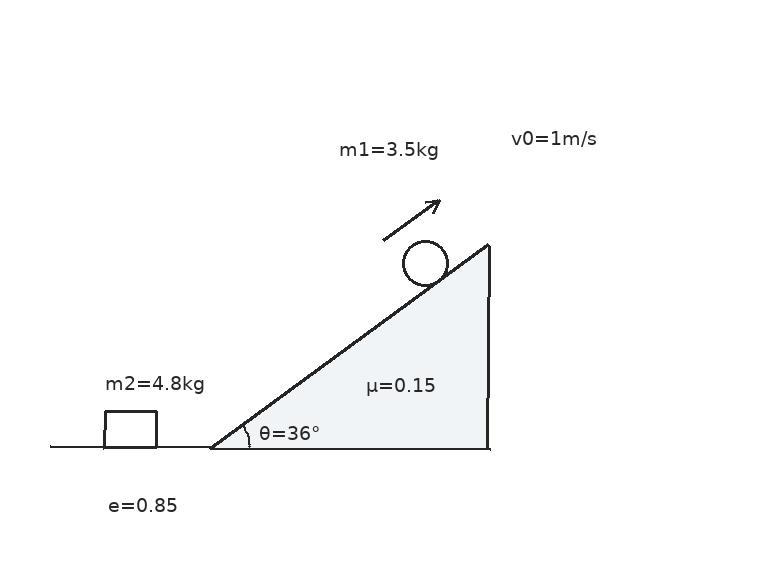ball: (400, 238, 450, 288)
block: (102, 409, 158, 450)
ramp: (208, 244, 490, 450)
